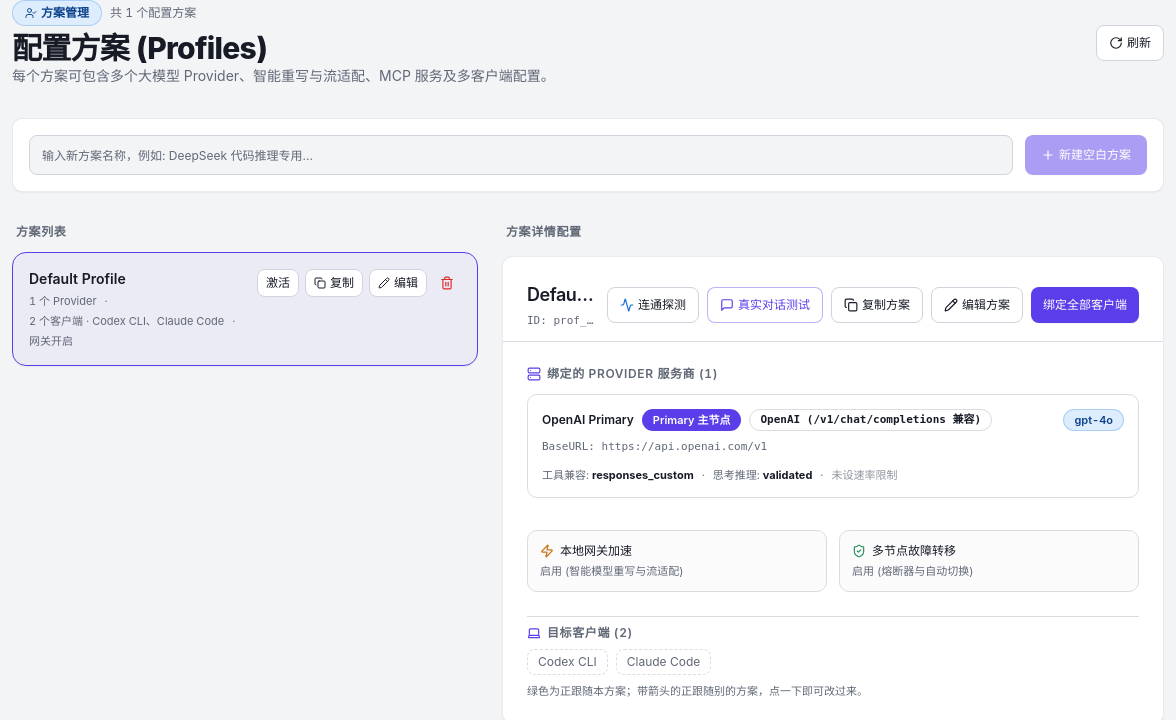
Test case: Frontend Pages › handles duplicating a profile from the profile list
Check: the text "Default Profile" is shown, box [29, 269, 126, 289]
Click the button "复制". click: (334, 283)
box: [305, 269, 363, 297]
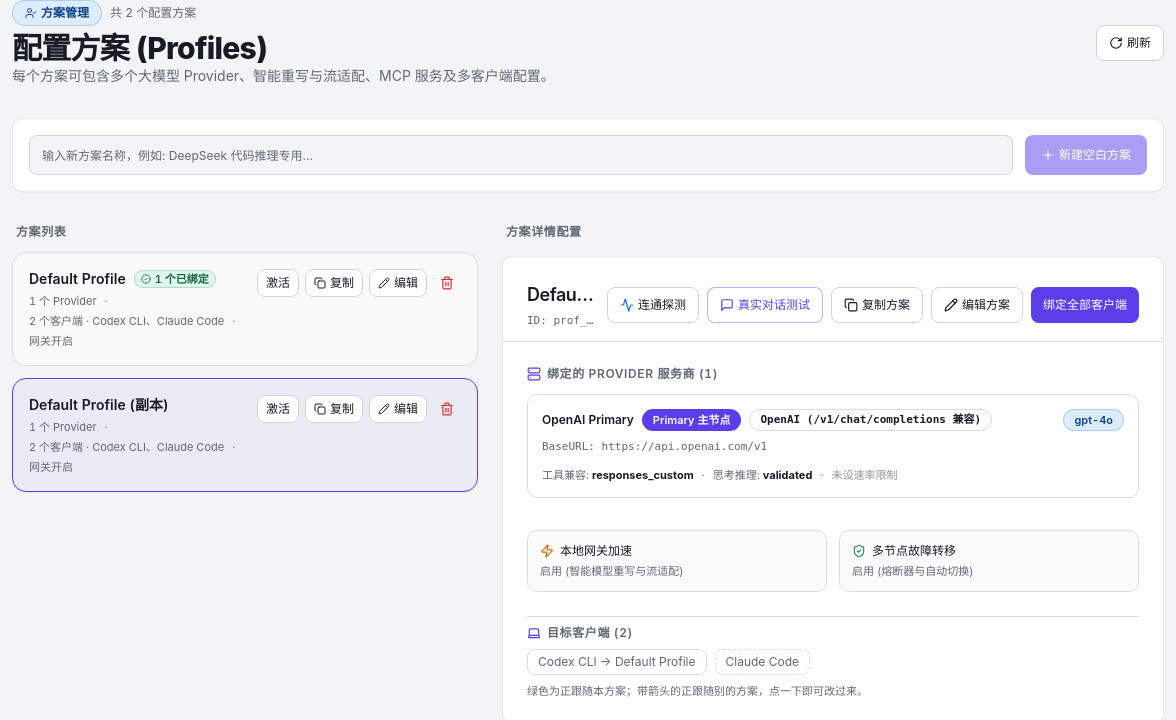
Check: the text "Default Profile (副本)" is shown, box [29, 395, 168, 415]
